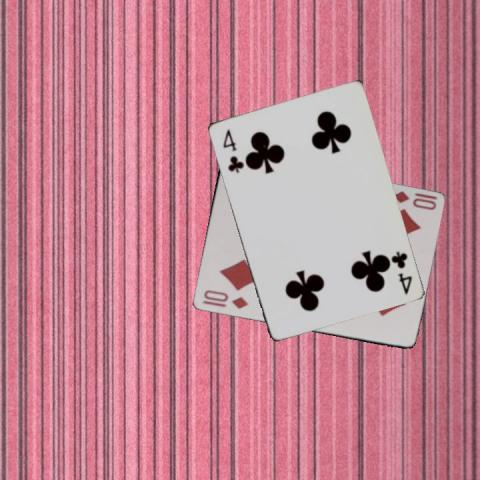10d: (200, 286, 249, 310), (390, 188, 439, 212)
4c: (387, 248, 413, 295), (219, 126, 244, 174)
